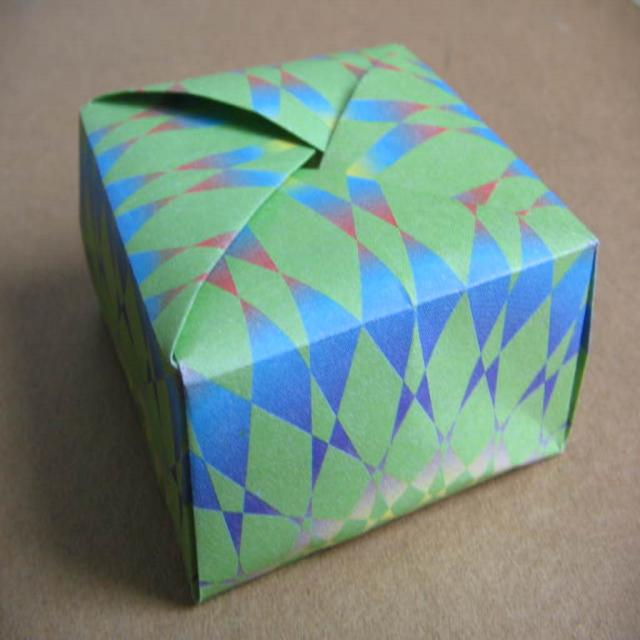Box: (81, 41, 602, 602)
